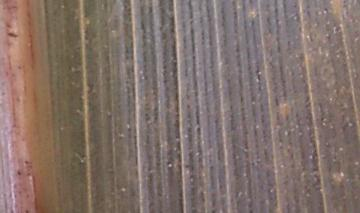tarspot: (7, 32, 19, 39), (16, 170, 23, 177), (23, 159, 30, 165), (23, 208, 30, 213)
